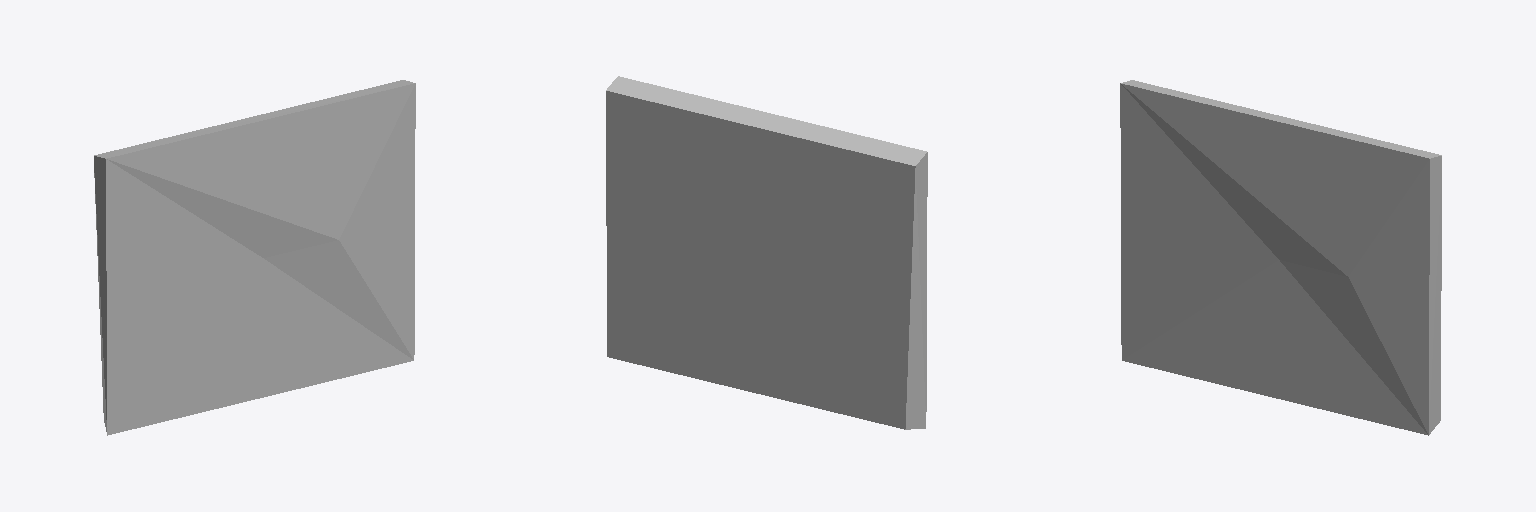
File: sim_ecub_1-1_r_foot_front.obj
3 renders of one model, left to right at view 1: azimuth 30°, elevation 25°; view 2: azimuth 150°, elevation 25°; view 3: azimuth 330°, elevation 25°, orthographic.
Bounding box in the file's own units: 117 × 99.95 × 9.67.